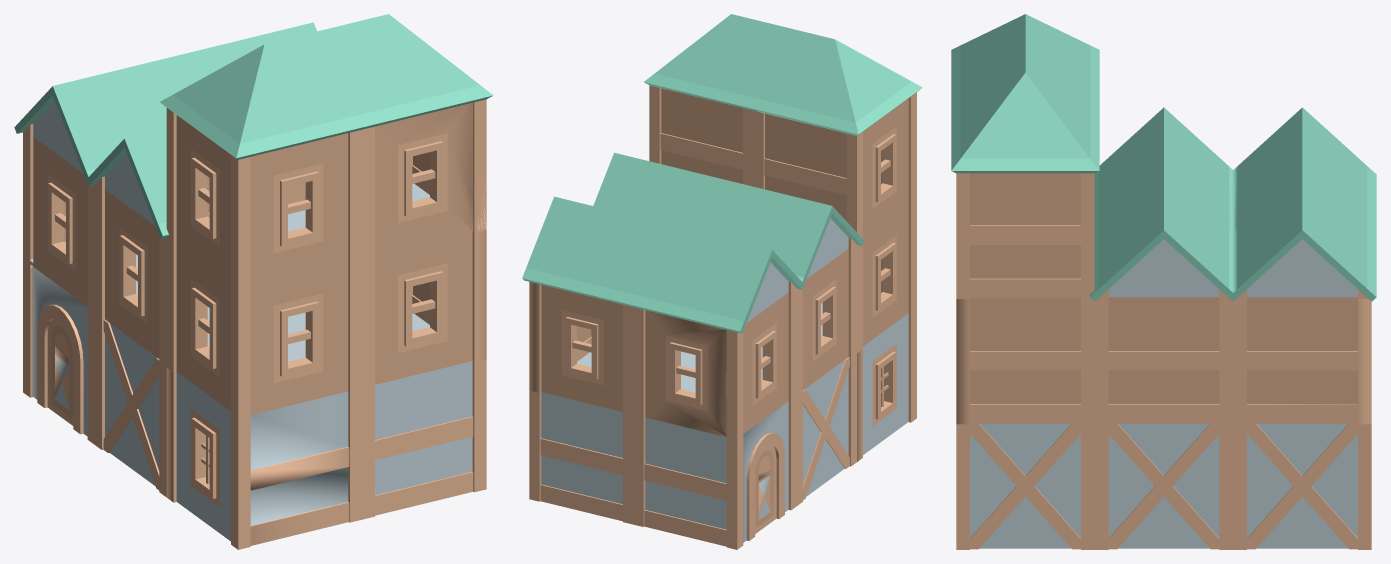
File: BasicHouse2.fbx
The picture shows the model from 3 angles, left to right: view 1: azimuth 30°, elevation 25°; view 2: azimuth 150°, elevation 25°; view 3: azimuth 270°, elevation 25°; orthographic projection. The views are drawn at different scales.
Visible parts, largest first — view 1: wallDoor.001, roofGable.002, road; view 2: wallDoor.001, roofGable.002, road; view 3: wallDoor.001, roofGable.002.
Boxes of the visible parts, x1,y1,x2,y2 form: wallDoor.001: (23,99,486,549); roofGable.002: (14,14,493,238); road: (30,183,429,361); wallDoor.001: (529,85,916,549); roofGable.002: (522,14,922,333); road: (577,303,822,392); wallDoor.001: (956,173,1371,549); roofGable.002: (951,14,1376,301).
Bounding box in the file's own units: 210 × 357 × 307.
